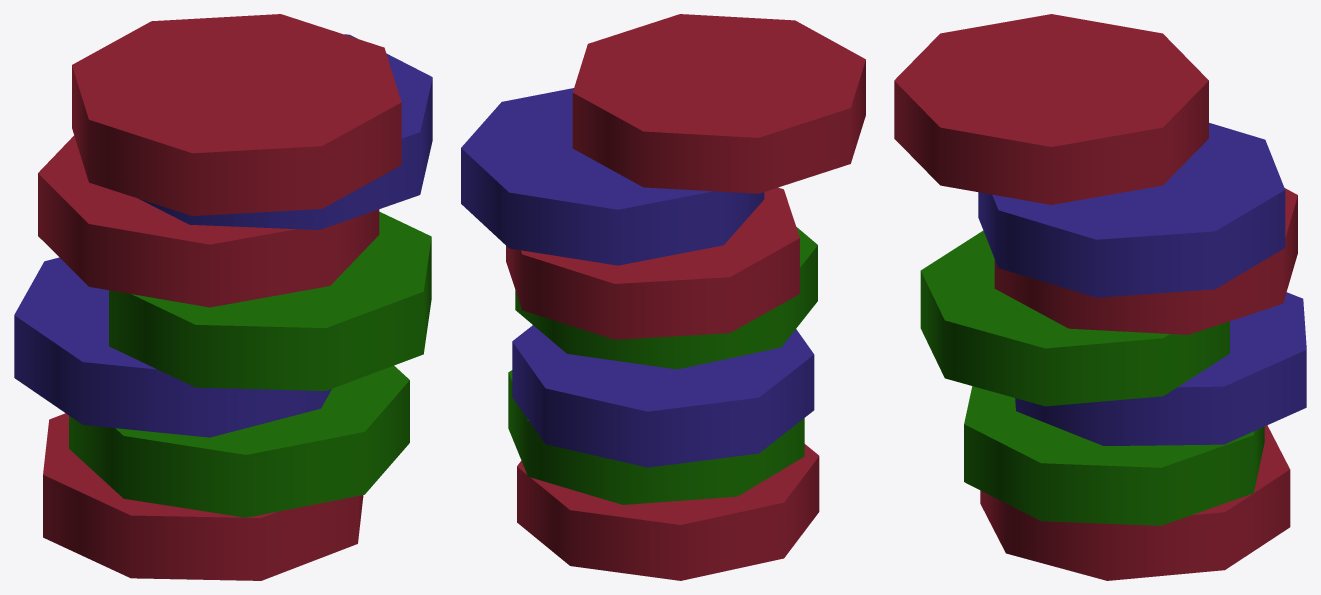
File: moeda_poquer_pilha_um.fbx
The picture shows the model from 3 angles, left to right: view 1: azimuth 30°, elevation 25°; view 2: azimuth 150°, elevation 25°; view 3: azimuth 270°, elevation 25°; orthographic projection. The views are drawn at different scales.
Parts seen in each view (by area): view 1: moeda_poquer_pilha_um; view 2: moeda_poquer_pilha_um; view 3: moeda_poquer_pilha_um.
Part boxes in pixels (box(x1,y1,x2,y2)): moeda_poquer_pilha_um: box(14, 14, 432, 580); moeda_poquer_pilha_um: box(461, 14, 865, 580); moeda_poquer_pilha_um: box(894, 14, 1306, 580).
Size of the model in its own units: 6.8 by 8.22 by 7.16.
